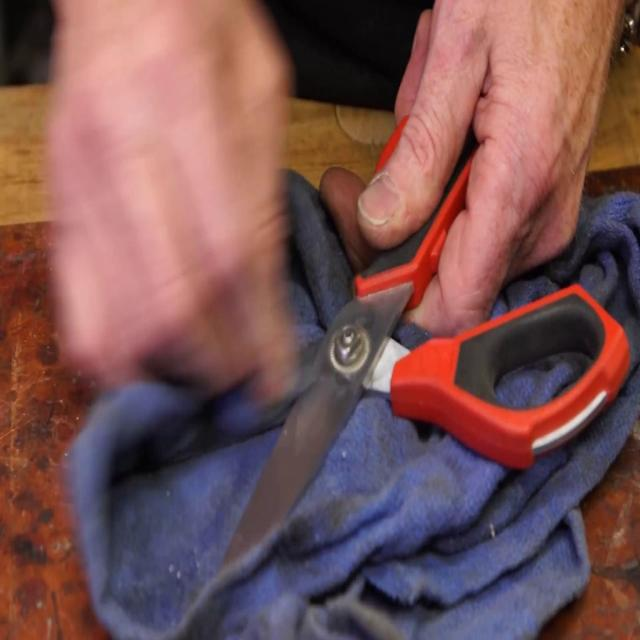scissor: (216, 119, 628, 576)
